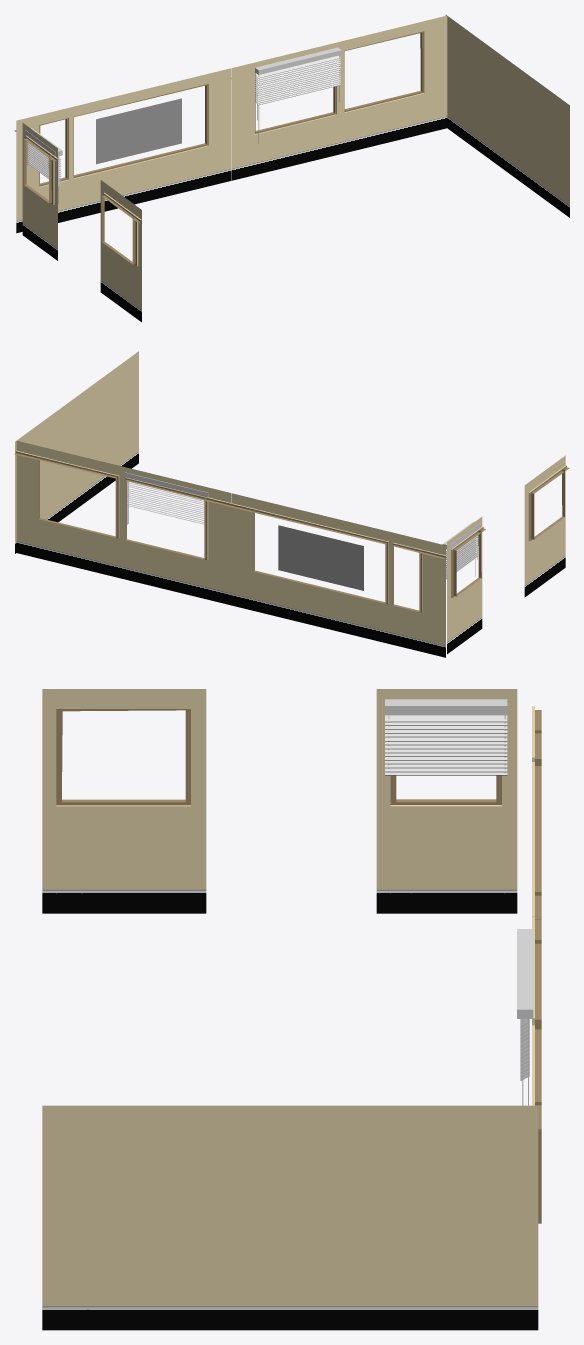
File: p1Ventanas3.fbx
The picture shows the model from 3 angles, top to bottom: view 1: azimuth 30°, elevation 25°; view 2: azimuth 150°, elevation 25°; view 3: azimuth 270°, elevation 25°; orthographic projection. The views are drawn at different scales.
Parts seen in each view (by area): view 1: pCube33, p1paredDerecha, pCube20, pPlane3, pCube23, polySurface3, pCube22, polySurface4; view 2: pCube20, pCube33, p1paredDerecha, pPlane3, pCube23, pCube22, polySurface3, polySurface4; view 3: p1paredDerecha, pCube23, pCube22, polySurface4, pCube33, polySurface3, pCube20.
Part boxes in pixels (box(x1,y1,x2,y2)): pCube33: box(231, 15, 447, 180); p1paredDerecha: box(445, 15, 569, 217); pCube20: box(14, 68, 231, 233); pPlane3: box(96, 98, 181, 164); pCube23: box(100, 180, 141, 322); polySurface3: box(255, 47, 341, 143); pCube22: box(22, 123, 57, 260); polySurface4: box(25, 128, 62, 203); pCube20: box(229, 493, 445, 657); pCube33: box(14, 441, 231, 605); p1paredDerecha: box(15, 351, 138, 553); pPlane3: box(278, 525, 363, 590); pCube23: box(524, 455, 569, 597); pCube22: box(447, 516, 485, 654); polySurface3: box(125, 472, 208, 524); polySurface4: box(442, 521, 480, 579); p1paredDerecha: box(42, 1105, 538, 1330); pCube23: box(42, 689, 206, 913); pCube22: box(376, 689, 517, 913); polySurface4: box(385, 699, 507, 810); pCube33: box(532, 916, 541, 1223); polySurface3: box(517, 929, 533, 1105); pCube20: box(532, 706, 541, 919).
Bounding box in the file's own units: 40.15 × 10 × 20.14.
